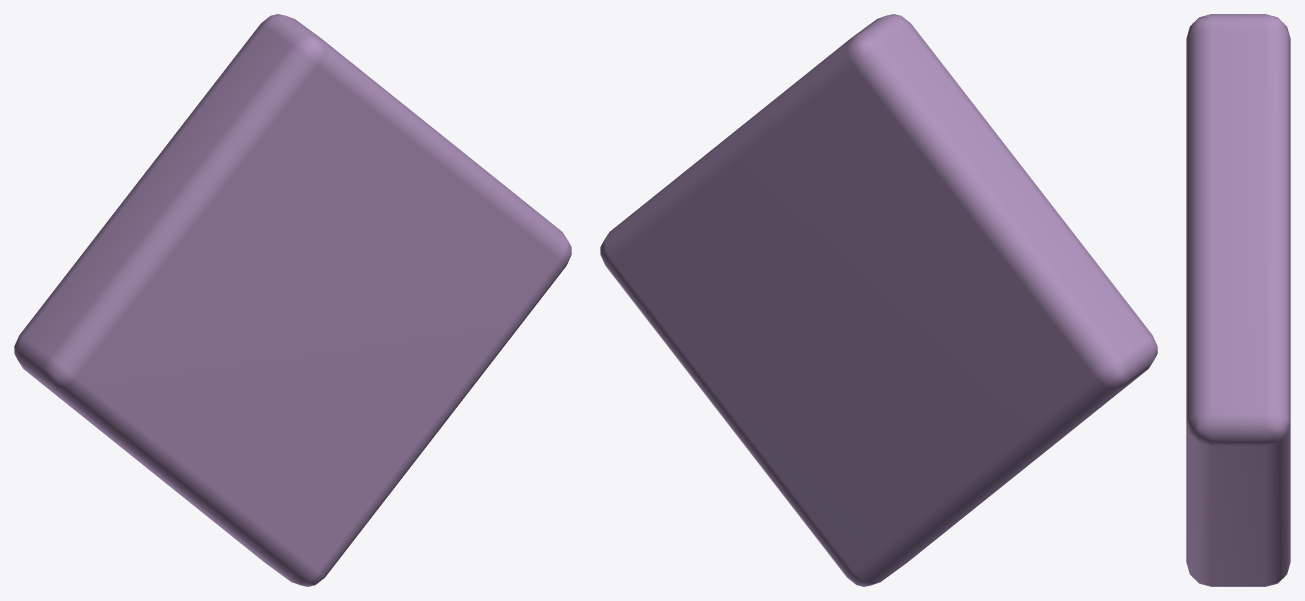
Rendered from shape-rhombus-purple.glb.
3 renders of one model, left to right at view 1: azimuth 30°, elevation 25°; view 2: azimuth 150°, elevation 25°; view 3: azimuth 270°, elevation 25°, orthographic. The views are drawn at different scales.
Parts seen in each view (by area): view 1: solid rhombus; view 2: solid rhombus; view 3: solid rhombus.
Part boxes in pixels (x1=…): solid rhombus: x1=14, y1=14, x2=571, y2=586; solid rhombus: x1=600, y1=14, x2=1157, y2=586; solid rhombus: x1=1186, y1=14, x2=1290, y2=586.
Size of the model in its own units: 1.5 by 1.5 by 0.25.
